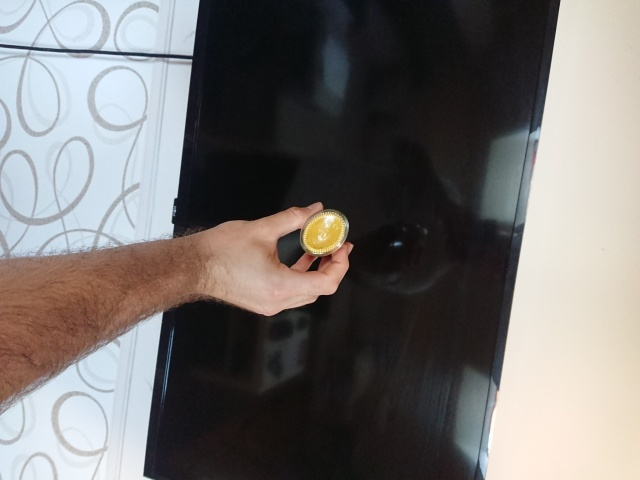Kotanyi Curry Spices Mix 70g: (298, 207, 352, 259)
